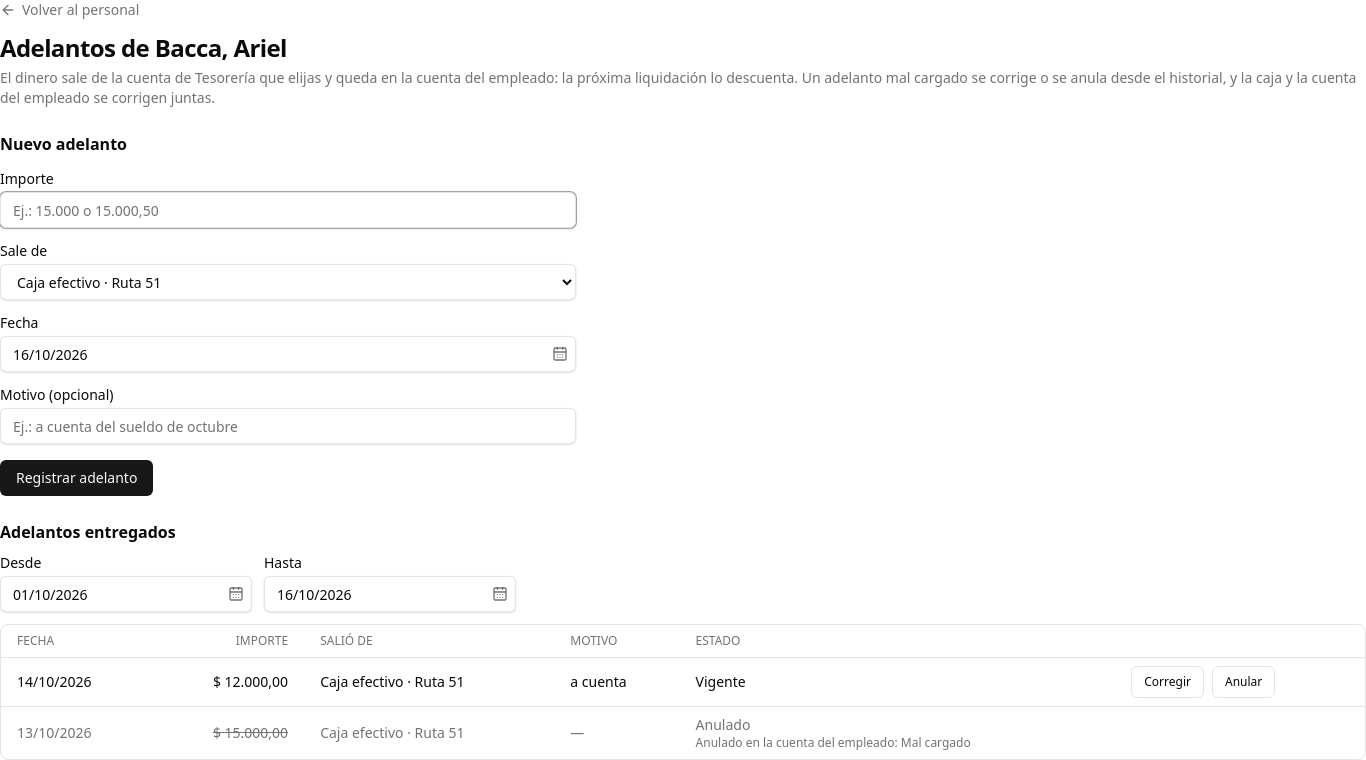
Test: EmployeeAdvancePage › voids an advance after asking why, and reads the history again
This screenshot has width=1366, height=760.
Click the button "Anular" at (1244, 682), box x1=1212 y1=666 x2=1275 y2=698
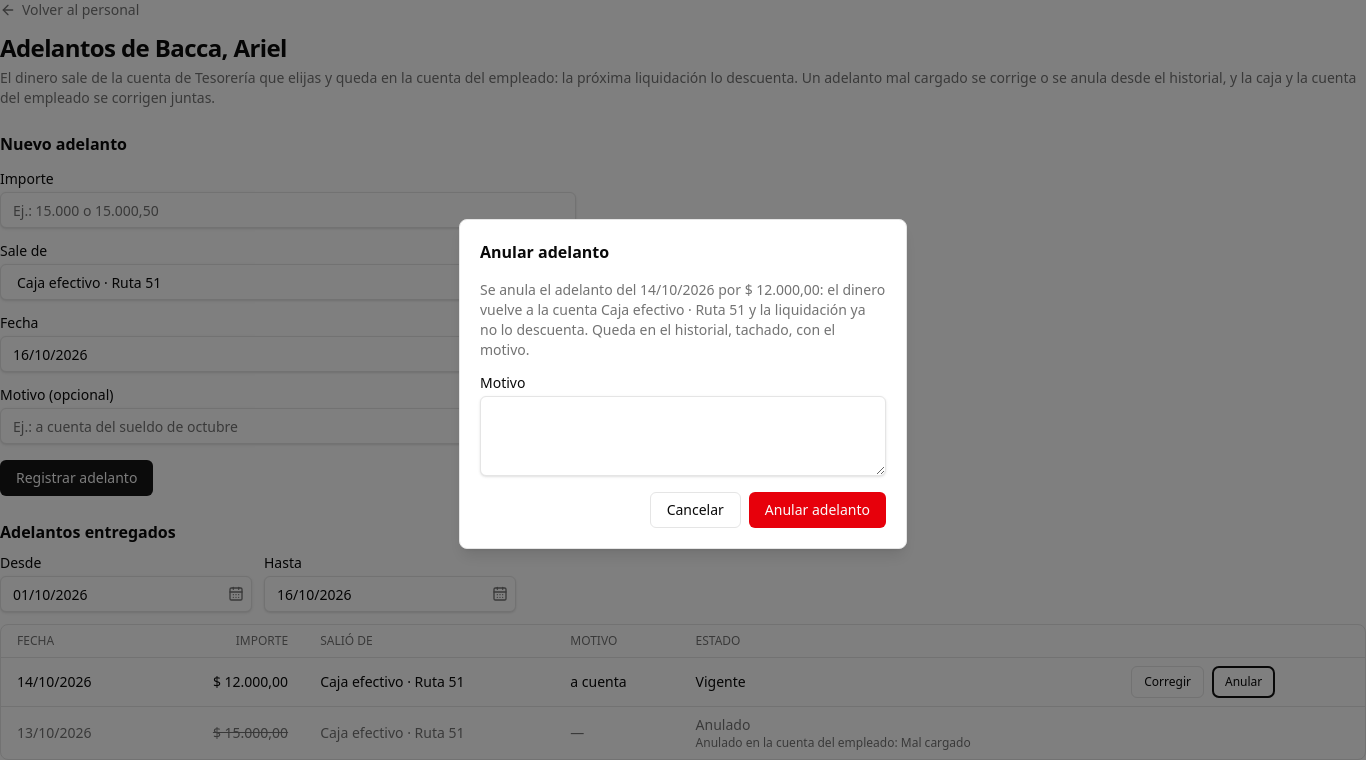
Check: the text "vuelve a la cuenta Caja efectivo · Ruta 51" is shown, box x1=480 y1=280 x2=885 y2=359
Type "No se entregó" into the text box labelled "Motivo" at (683, 436), box x1=480 y1=396 x2=886 y2=476
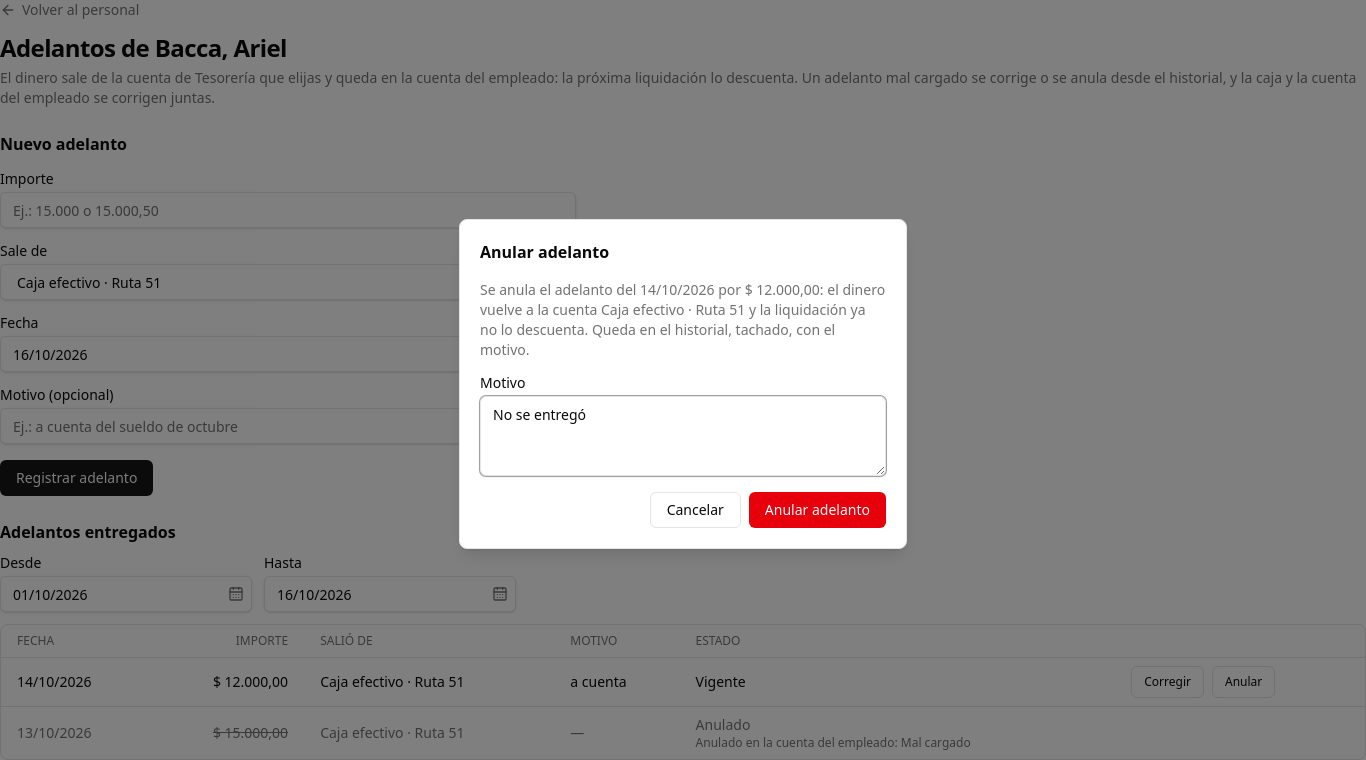
Click the button "Anular adelanto" at (817, 510), box x1=749 y1=492 x2=886 y2=528
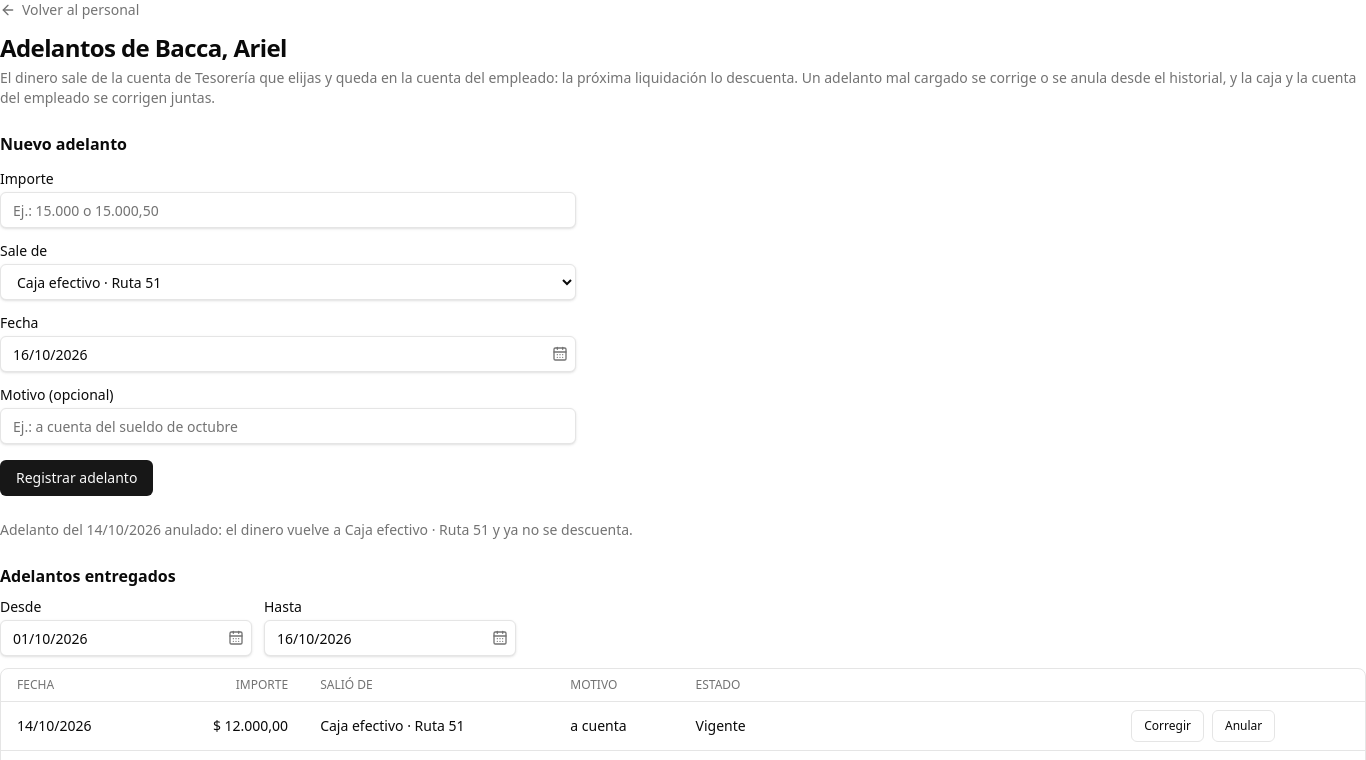
Check: the text "Adelanto del 14/10/2026 anulado" is shown, box x1=0 y1=520 x2=633 y2=539
